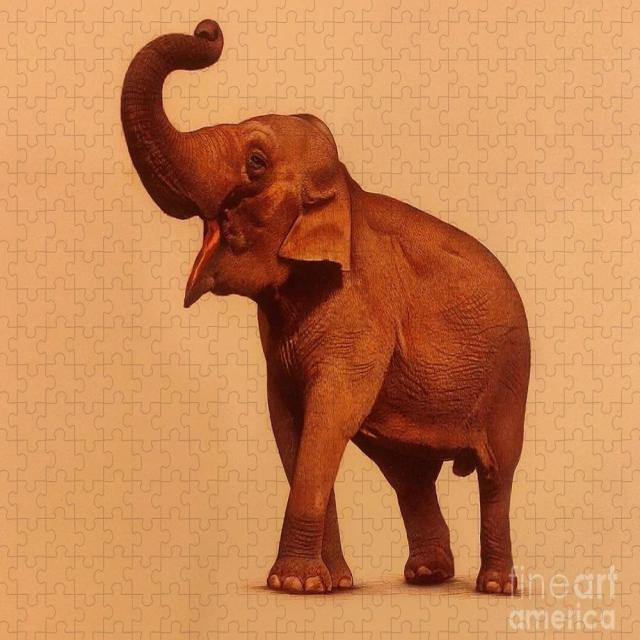Elephant: (115, 14, 537, 607)
